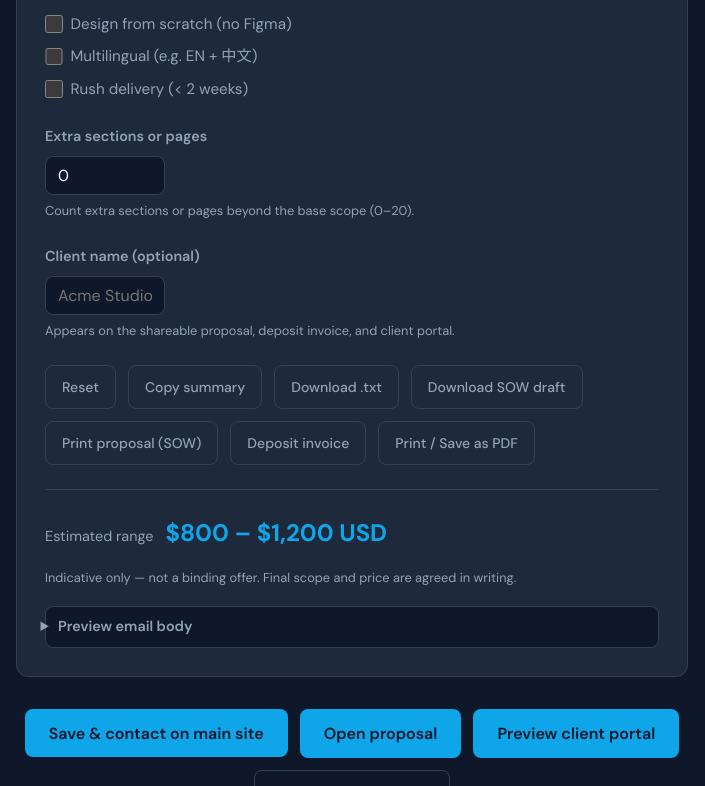
Test: Calculator › copy summary shows success feedback
The width and height of the screenshot is (705, 786).
(page scrolled)
Click the button with aria-label "copy estimate summary to clipboard": (195, 387) x1=128 y1=365 x2=262 y2=409
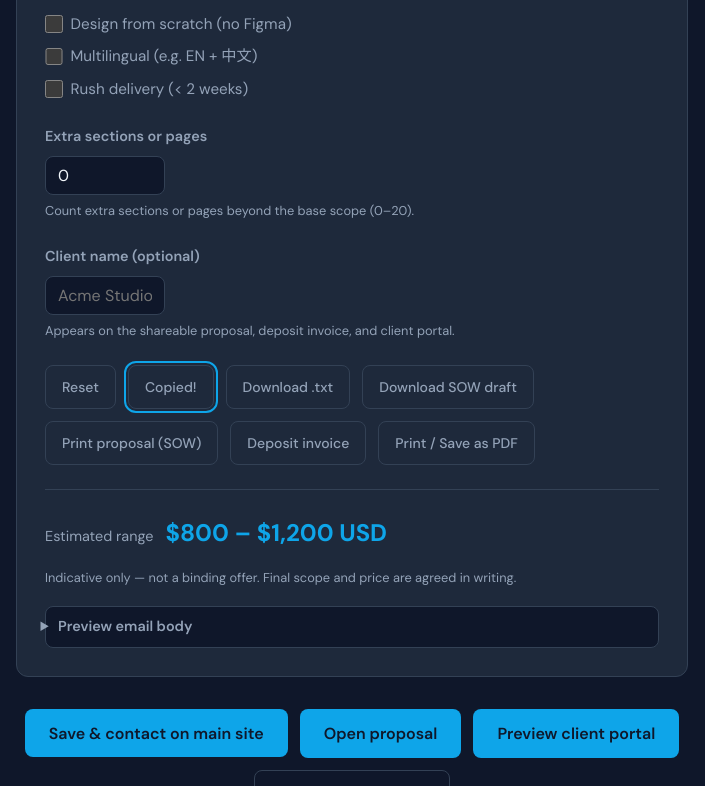
Result: the button with aria-label "copy estimate summary to clipboard" shows "Copied" at x1=128 y1=365 x2=214 y2=409
